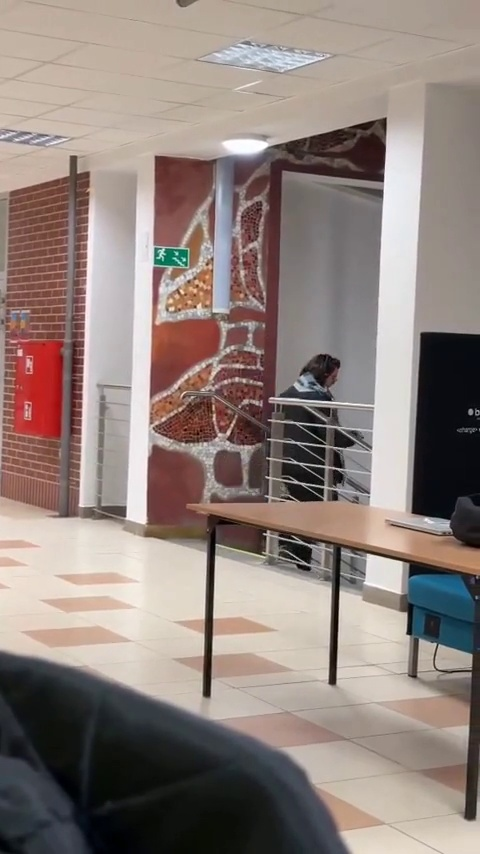no vest: (271, 351, 361, 573)
